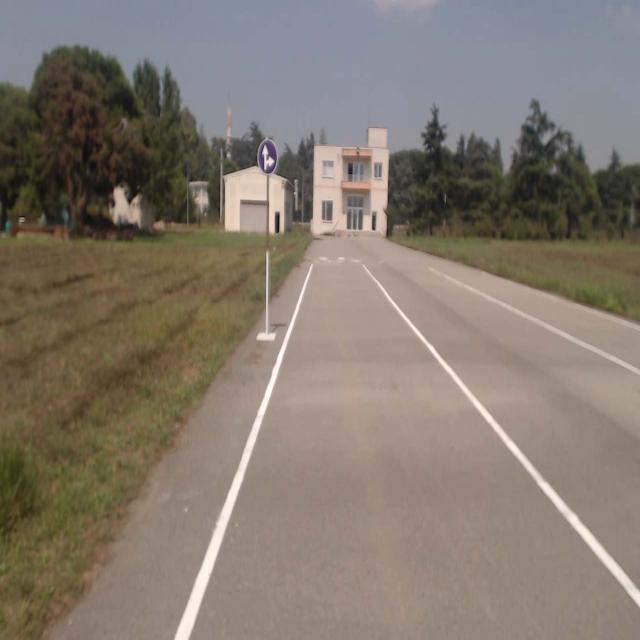ilerisag: (257, 138, 277, 174)
